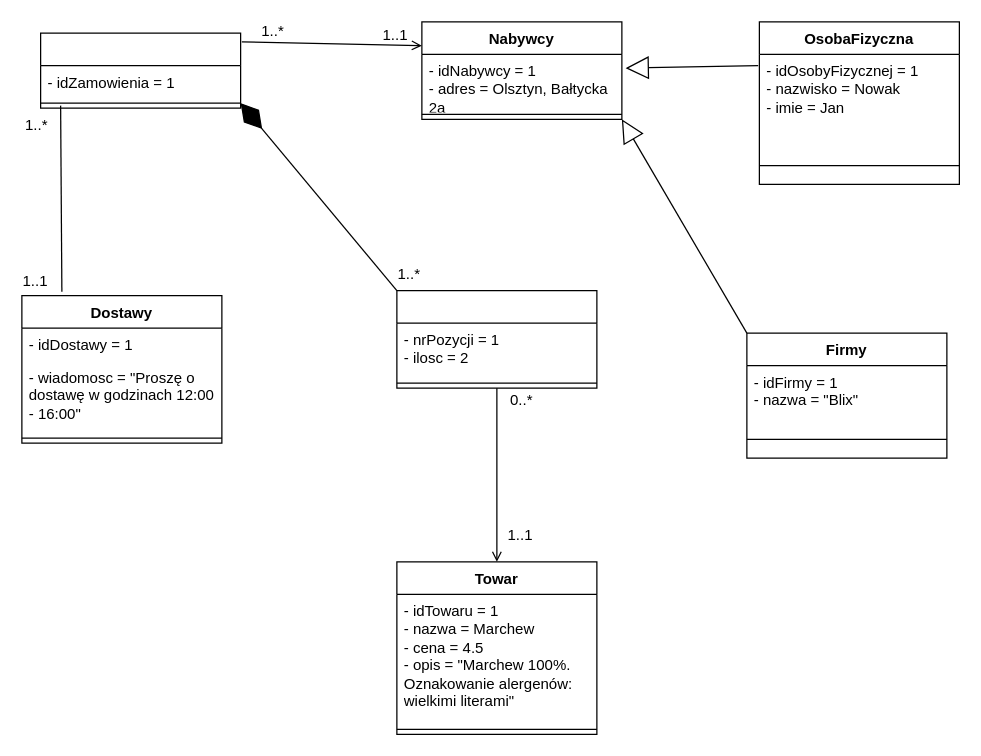
The diagram is 981 pixels wide and 756 high, and some of its shapes have lost their labels. The box of each missing label's shape, as (x1, y1, x2, y2) in pixels:
Pozycje: (396, 289, 597, 388)
Zamówienia: (39, 32, 241, 108)
